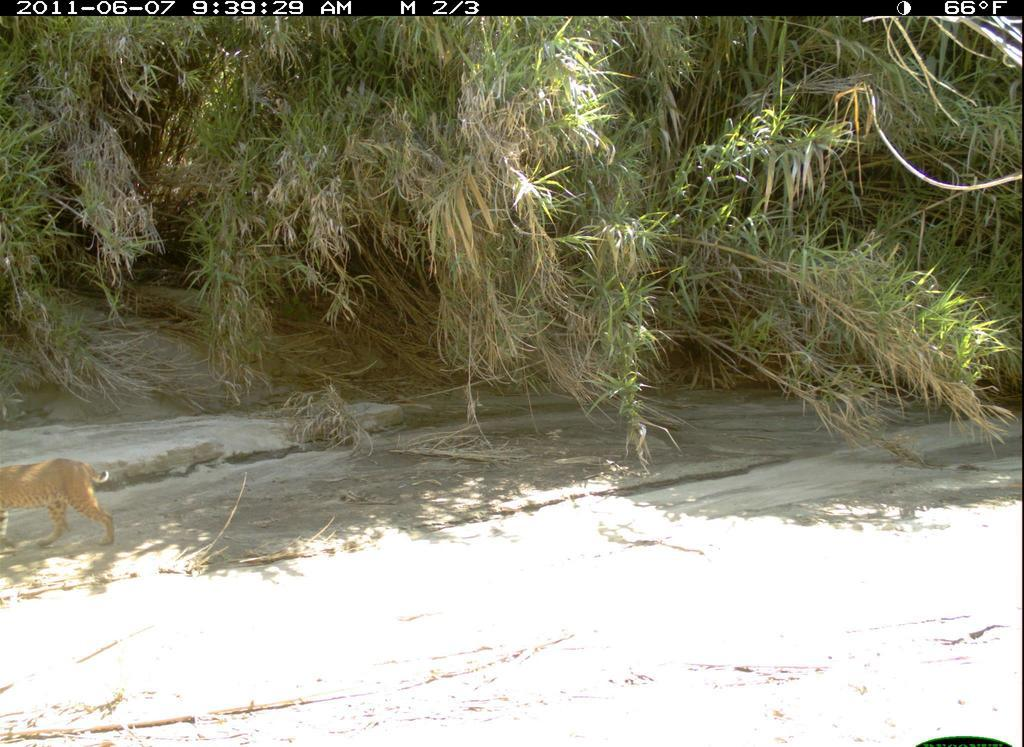bobcat: (3, 456, 121, 577)
